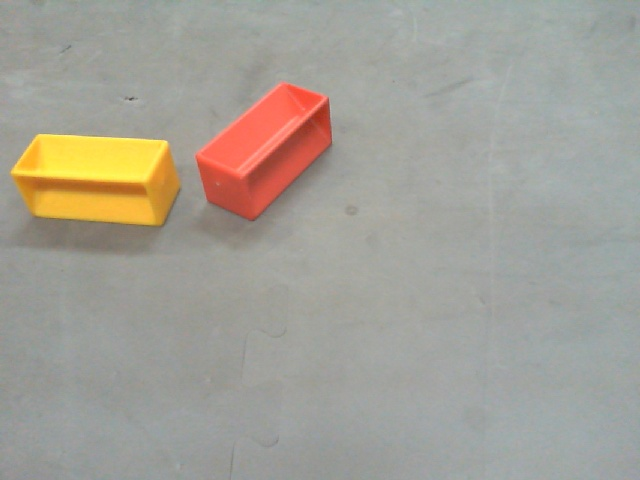RedSample: (195, 78, 338, 222)
YellowSample: (9, 131, 179, 227)
